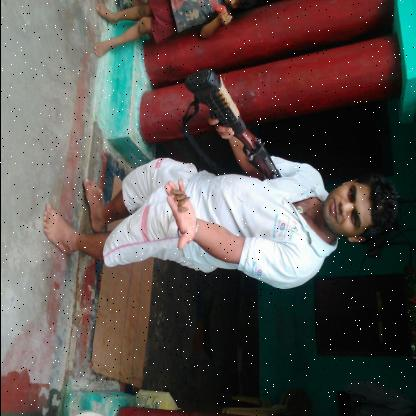rifle: (181, 66, 282, 180)
